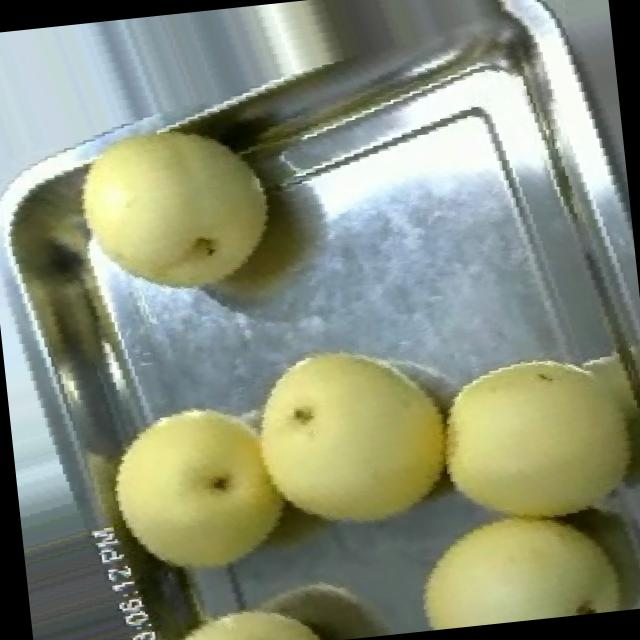Fruit: (46, 84, 308, 330), (224, 308, 476, 555), (409, 314, 640, 559), (84, 375, 312, 604), (384, 474, 640, 633), (126, 573, 346, 640)
